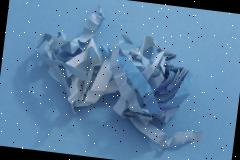paper: (23, 0, 215, 152), (102, 31, 196, 130), (124, 115, 204, 152)
